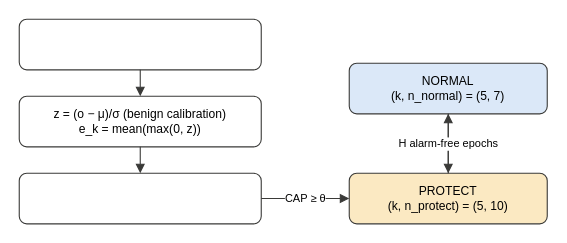
Some shapes in this 567 by 243 pixel diagram are drawn without their labels. Each missing label, with the centre of its shape:
"CAP_k = α·CAP_{k−1} + e_k (= EWMA_k / (1−α))" belongs at (x=139, y=198).
"observables o_k per epoch (loss, deadline misses, rejects)" belongs at (x=139, y=44).
